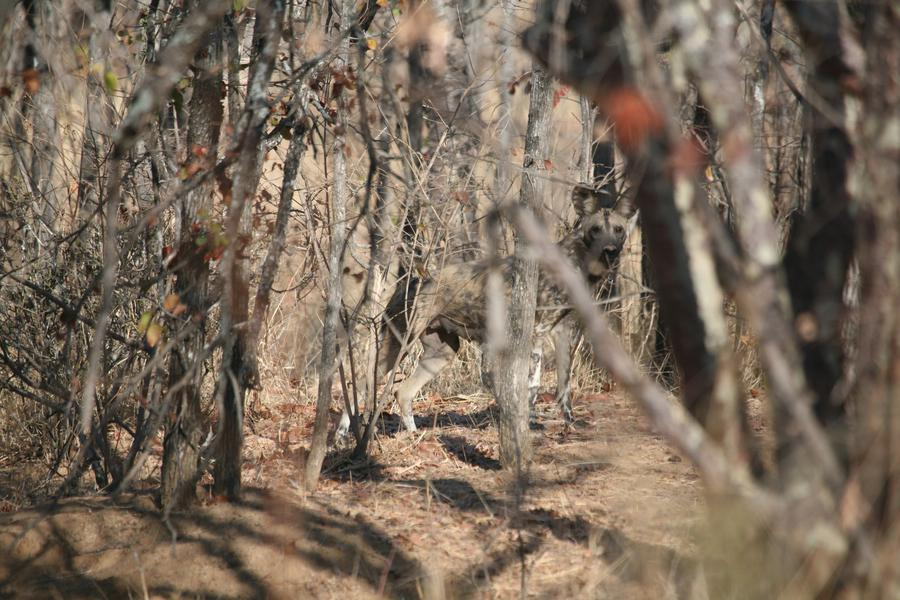wilddog: (398, 199, 632, 408)
